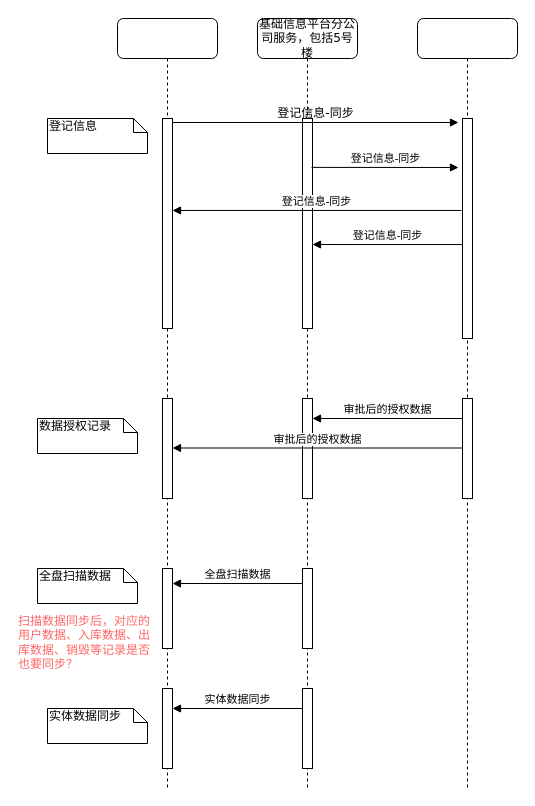
The diagram is 535 pixels wide and 806 high, and some of its shapes have lost their labels. Here are the shapes that lost their labels. From the top down, the box of each, then its label:
(116, 18, 218, 788): 基础信息平台主服务
(416, 18, 518, 788): 信息图谱
